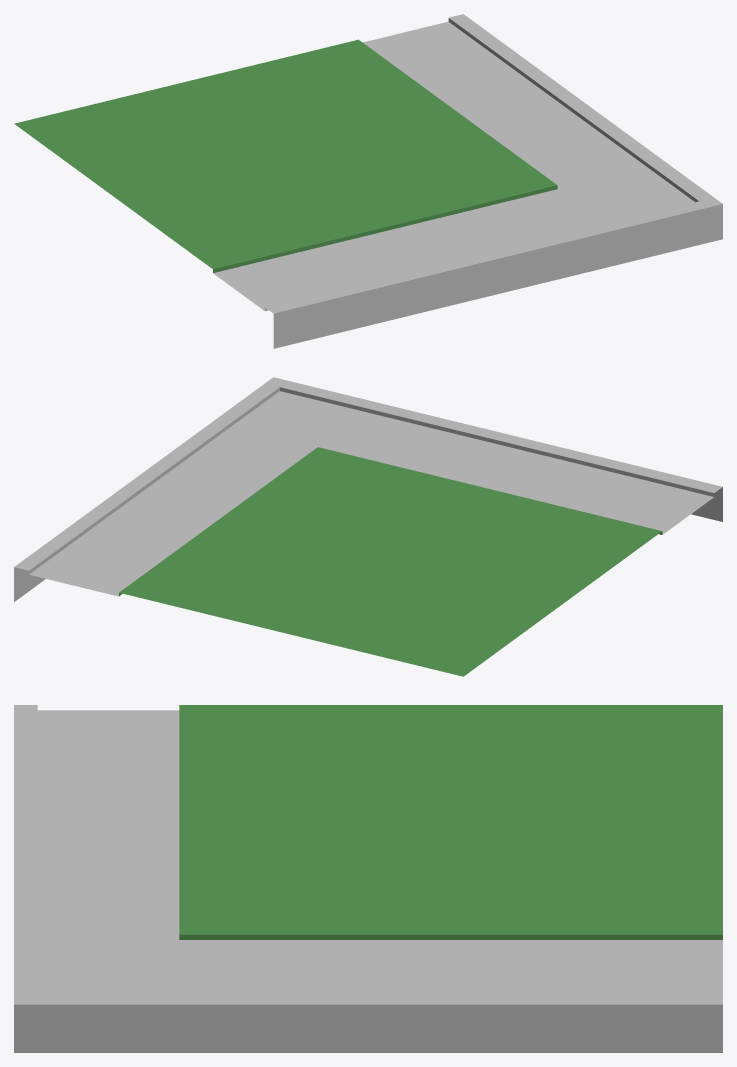
The model's file is goodCorner.fbx.
3 renders of one model, top to bottom at view 1: azimuth 30°, elevation 25°; view 2: azimuth 150°, elevation 25°; view 3: azimuth 270°, elevation 25°, orthographic. The views are drawn at different scales.
Visible parts, largest first — view 1: Cube.001; view 2: Cube.001; view 3: Cube.001.
Boxes of the visible parts, box(x1,y1,x2,y2) form: Cube.001: box(14, 14, 722, 348); Cube.001: box(14, 377, 722, 676); Cube.001: box(14, 705, 722, 1052).
Bounding box in the file's own units: 600 × 45 × 600.
